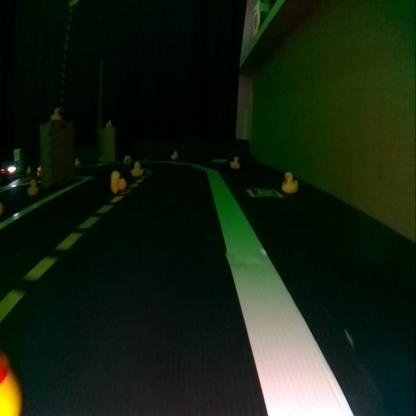Duckie: (109, 170, 125, 191), (281, 172, 297, 192), (131, 160, 142, 174), (230, 155, 240, 168), (50, 106, 60, 119), (28, 179, 36, 195), (170, 150, 178, 159), (75, 157, 80, 164), (36, 168, 42, 173)
QR code: (246, 188, 282, 197)
